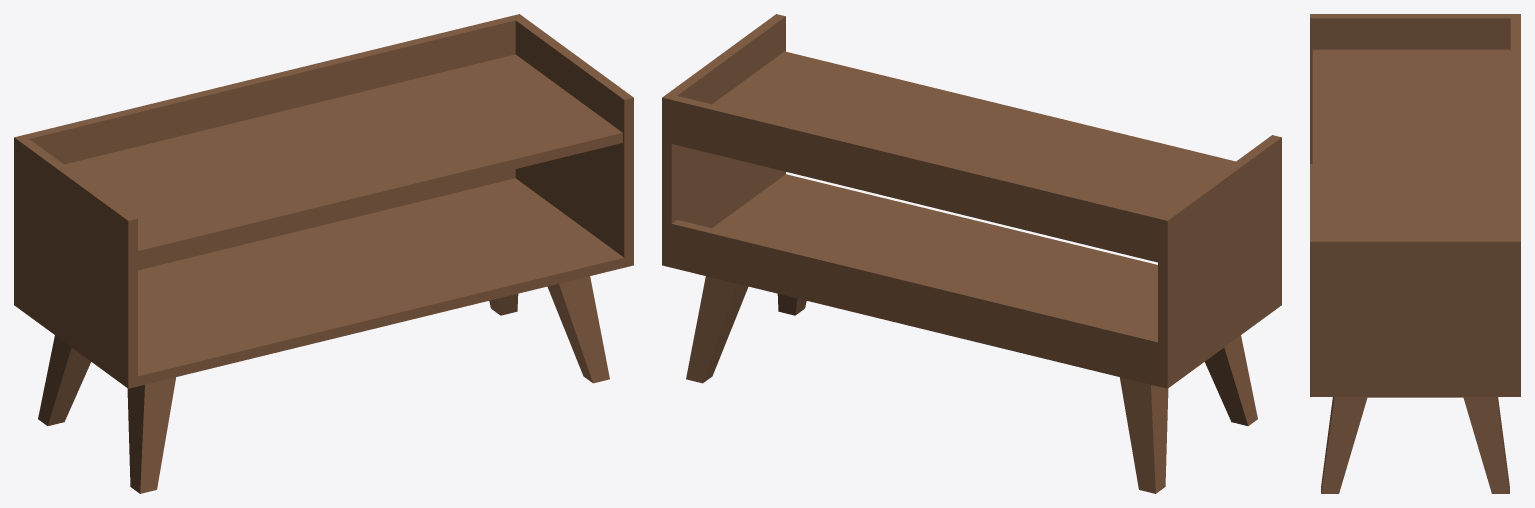
File: shoe3.glb
The picture shows the model from 3 angles, left to right: view 1: azimuth 30°, elevation 25°; view 2: azimuth 150°, elevation 25°; view 3: azimuth 270°, elevation 25°; orthographic projection. The views are drawn at different scales.
Visible parts, largest first — view 1: ShoeRack2; view 2: ShoeRack2; view 3: ShoeRack2.
Part boxes in pixels (box(x1,y1,x2,y2)): ShoeRack2: box(14, 14, 633, 493); ShoeRack2: box(662, 14, 1281, 493); ShoeRack2: box(1310, 14, 1520, 493).
Size of the model in its own units: 92 by 49 by 36.
